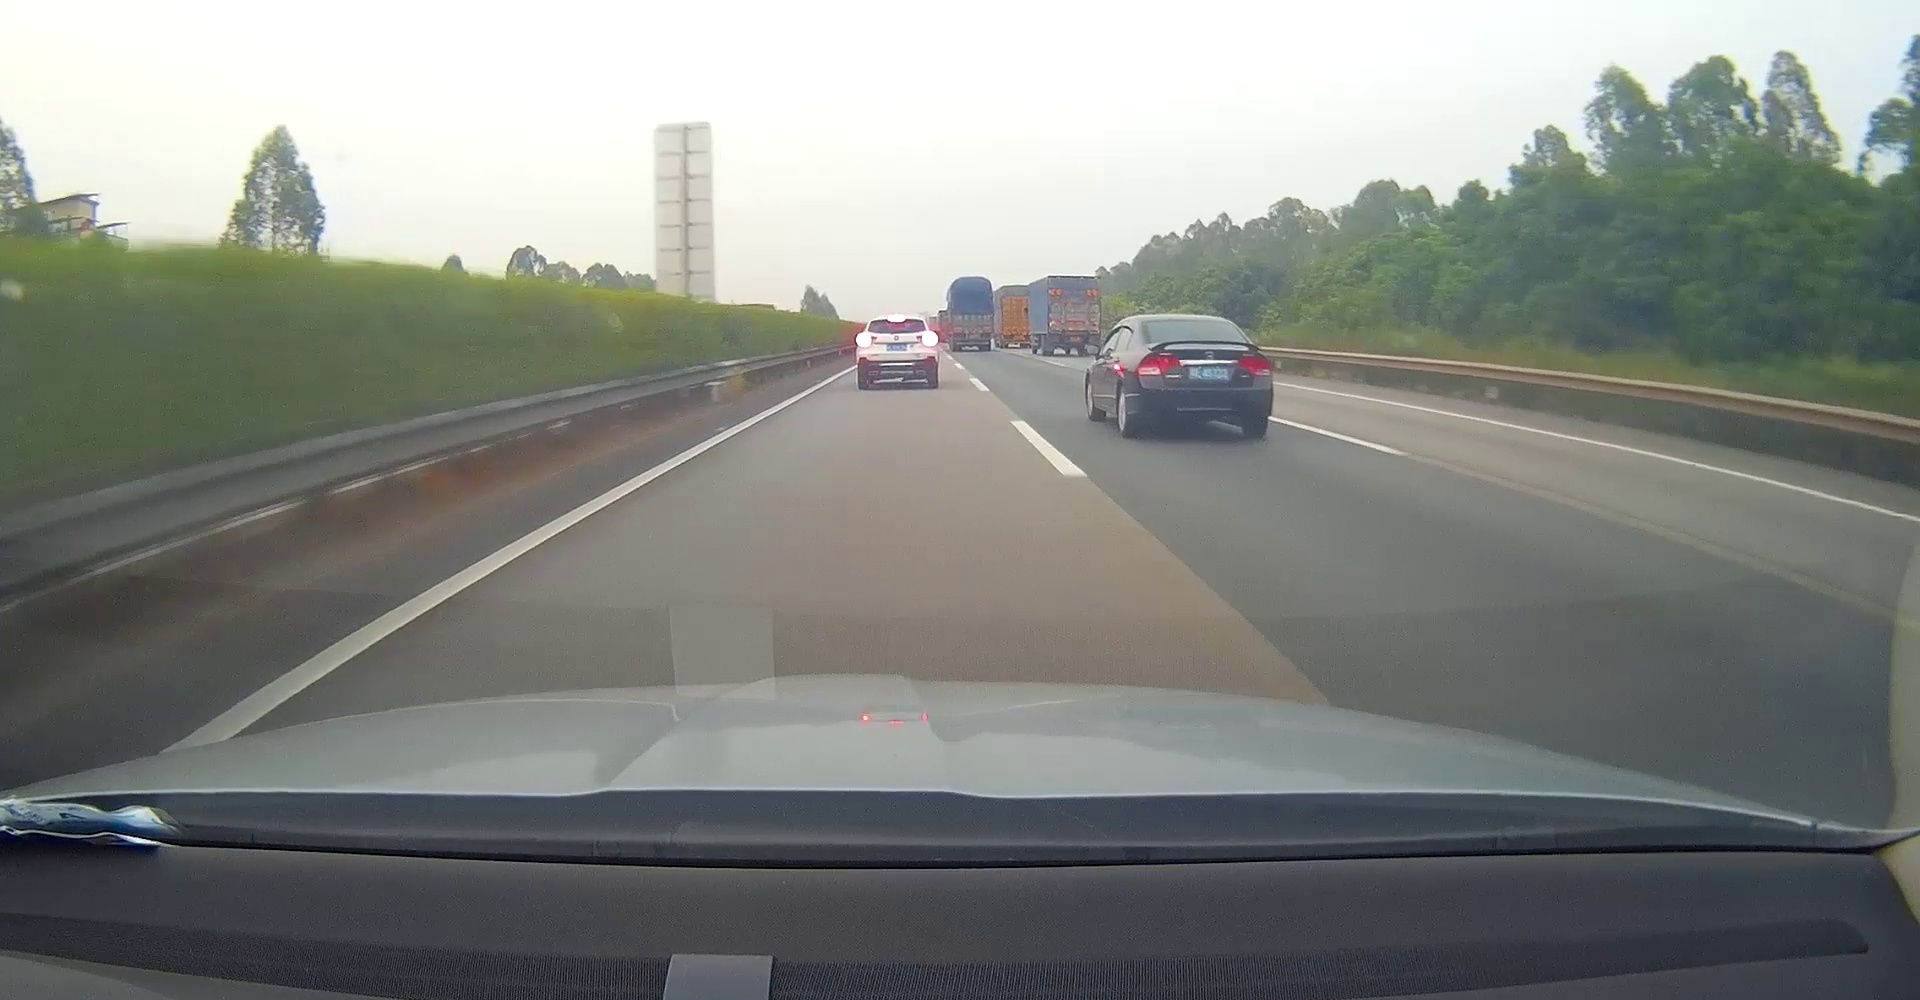L_light: (1134, 353, 1182, 376), (858, 335, 877, 344), (1050, 334, 1063, 339), (956, 338, 963, 341)
R_light: (1239, 357, 1271, 376), (916, 335, 937, 343), (1090, 334, 1100, 339), (982, 338, 989, 341)
T_light: (1185, 320, 1208, 326), (888, 319, 905, 322), (1069, 279, 1081, 283), (969, 324, 977, 327)
day-brake: (856, 316, 938, 390)
day-no: (1133, 313, 1272, 437), (1046, 275, 1101, 357), (950, 277, 994, 352)
